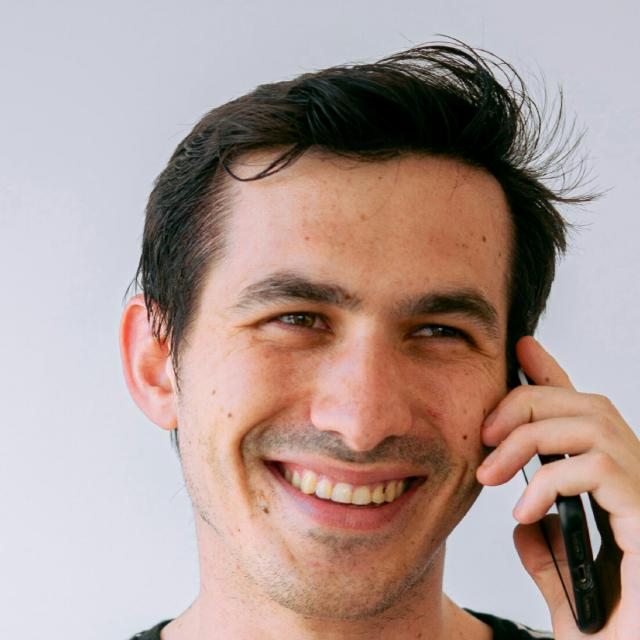front: (232, 239, 488, 542)
